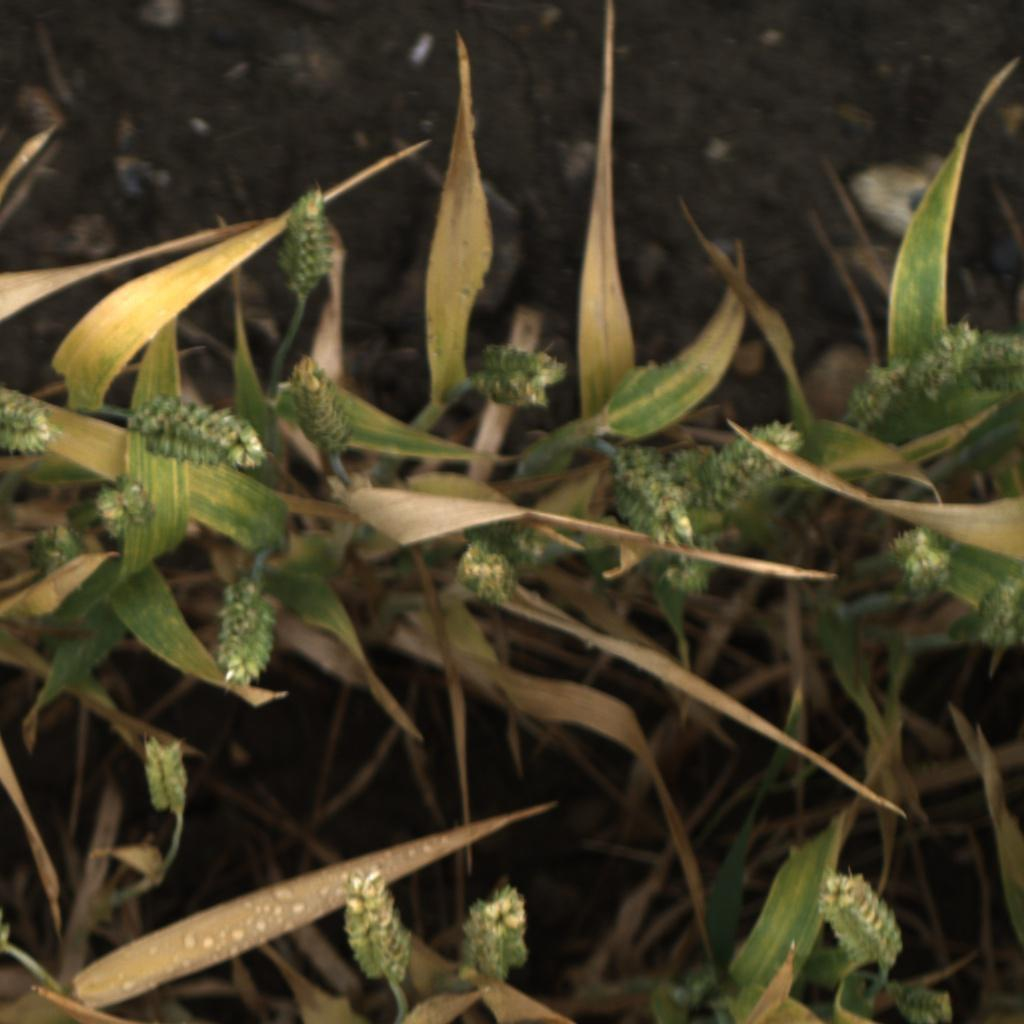0-0: (128, 391, 271, 478), (588, 441, 694, 553), (692, 421, 803, 514), (339, 858, 417, 985), (813, 870, 911, 971), (454, 881, 535, 988), (211, 578, 280, 690), (282, 354, 357, 456), (274, 181, 336, 298), (474, 346, 574, 416), (883, 520, 964, 606), (909, 316, 986, 405), (840, 358, 911, 439), (452, 534, 522, 611), (136, 727, 196, 815), (92, 473, 160, 544), (975, 565, 1024, 658), (481, 514, 556, 568), (0, 393, 56, 461), (883, 980, 966, 1024), (32, 521, 100, 574), (661, 538, 728, 591), (985, 325, 1024, 394)
